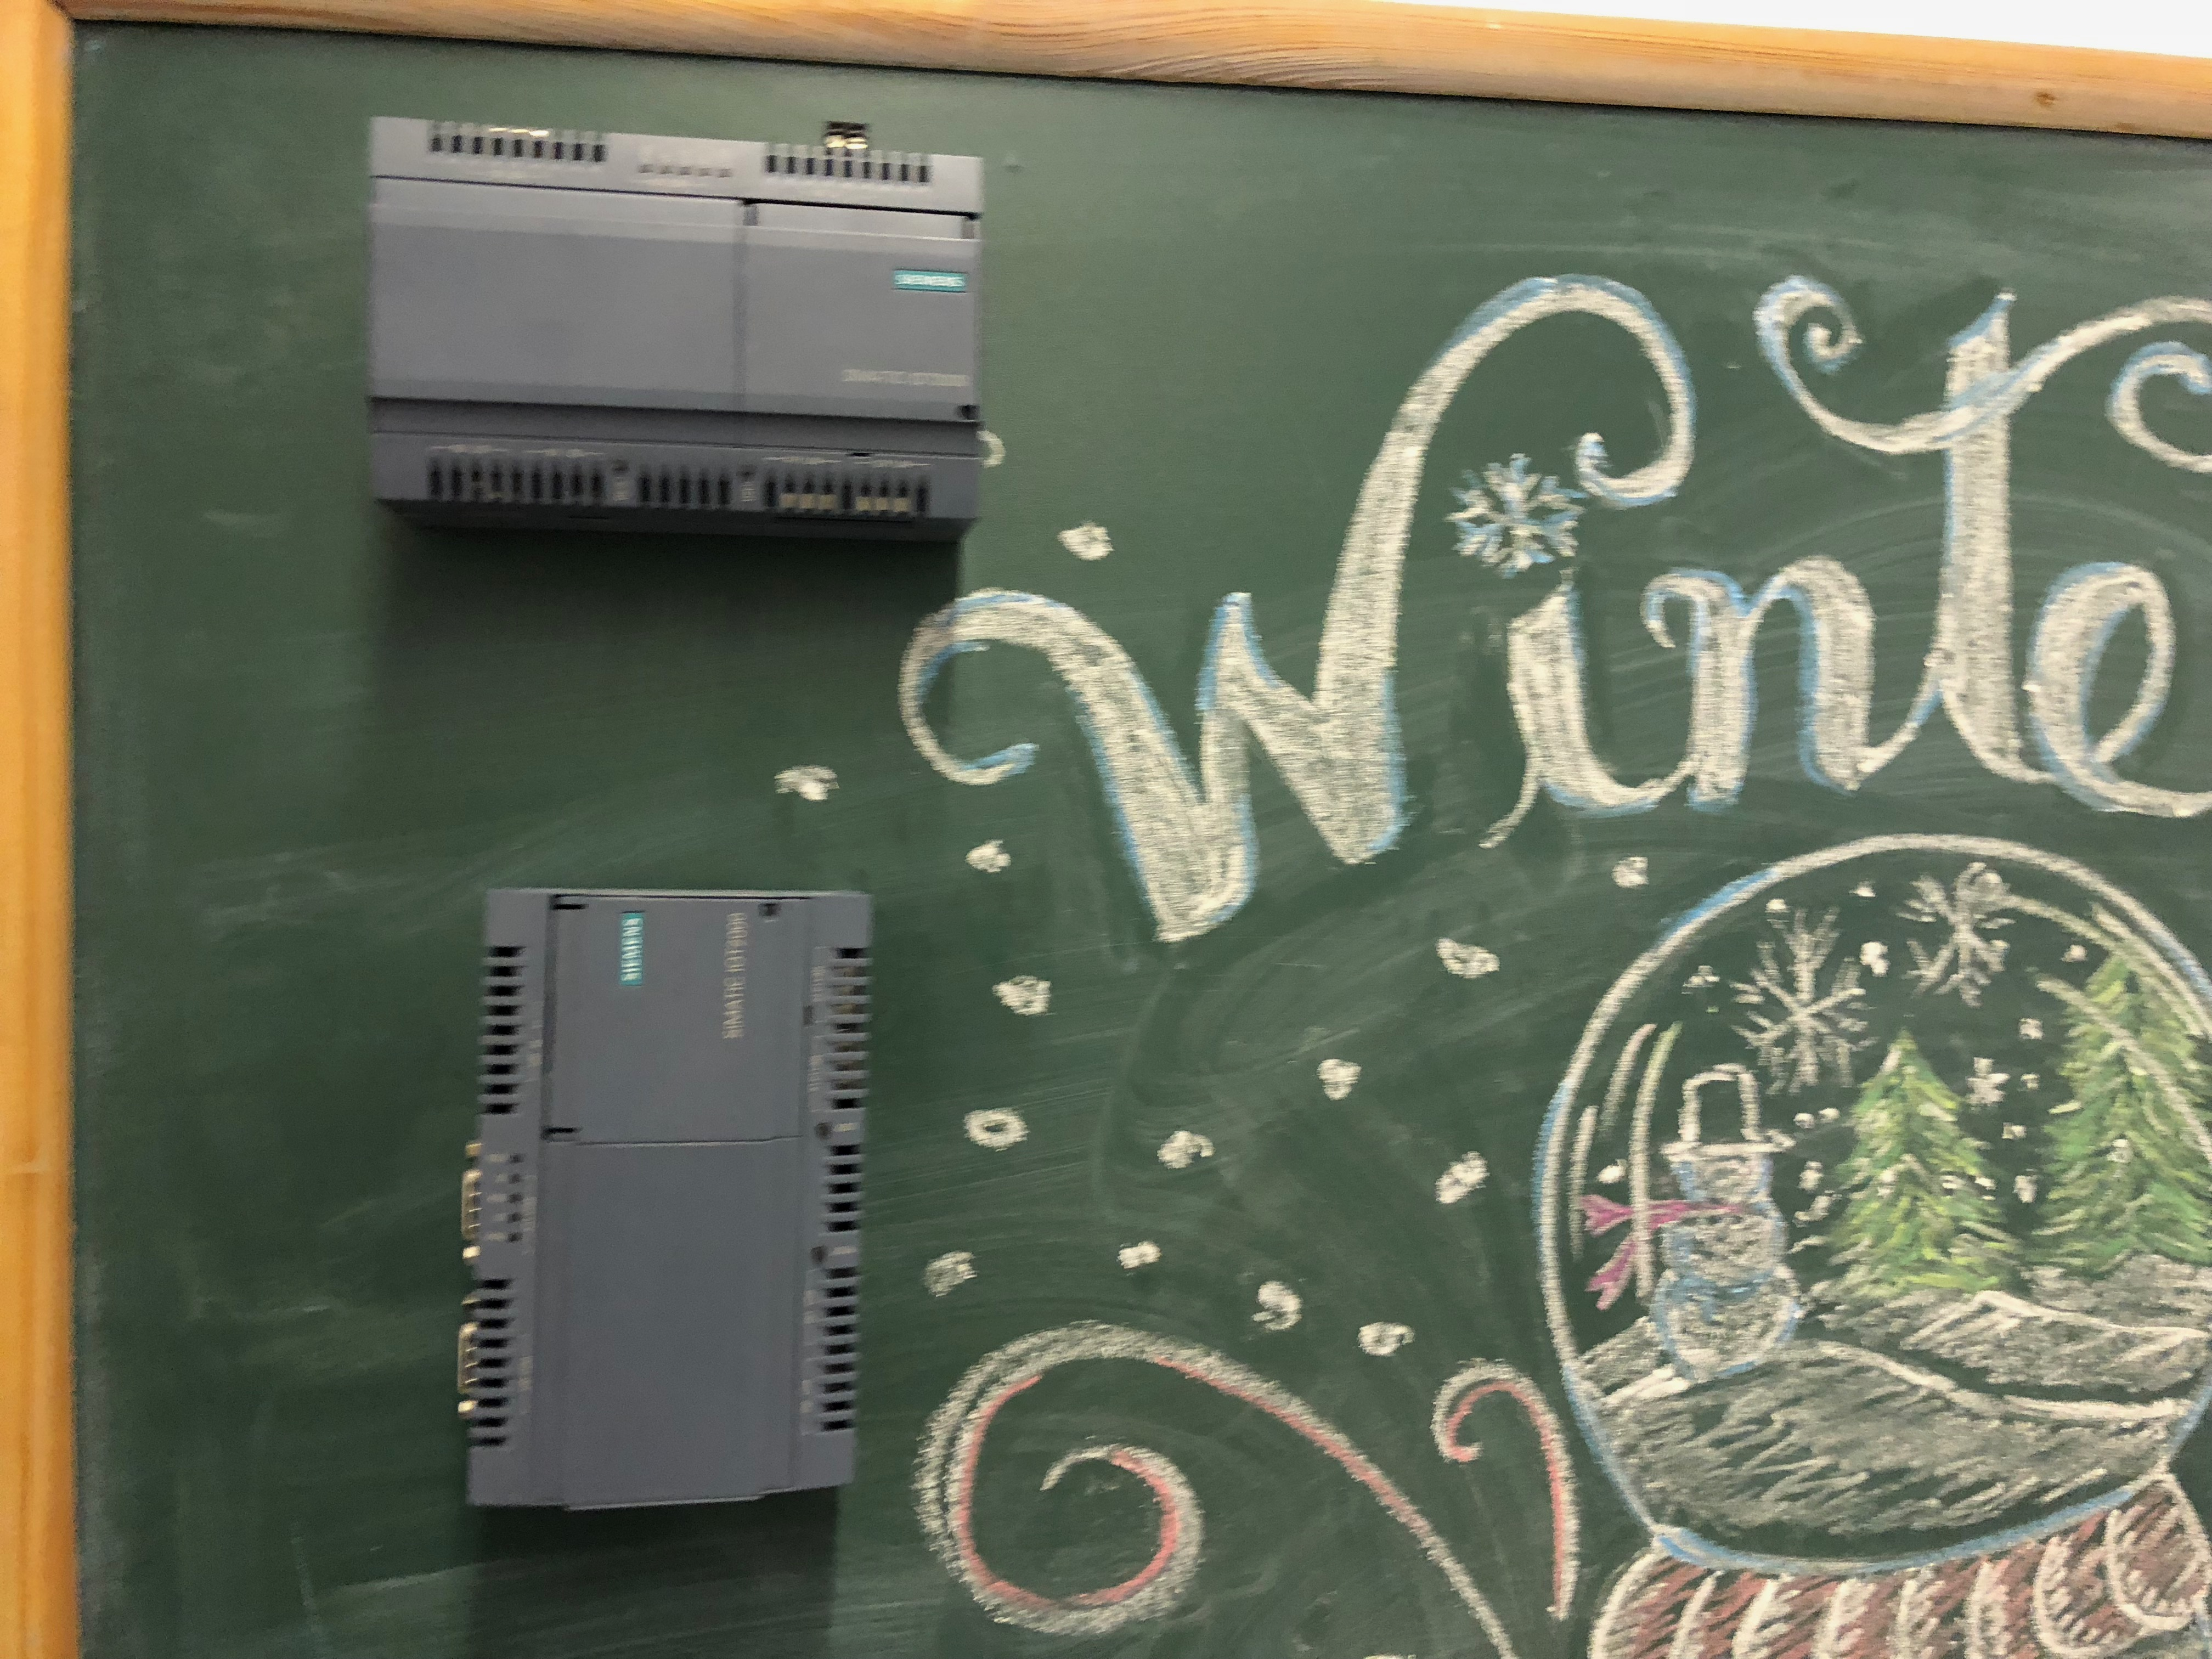device: (368, 117, 984, 544), (458, 887, 873, 1513)
